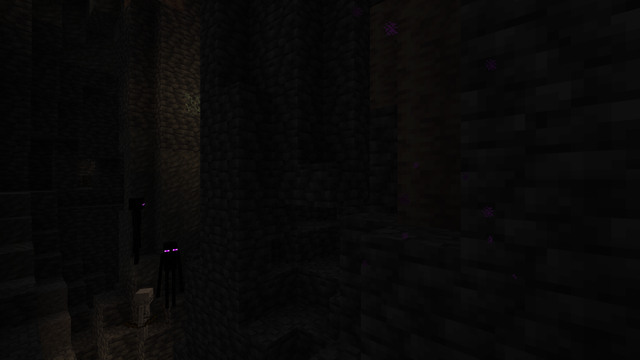endermens: (126, 195, 146, 264), (160, 238, 179, 309)
squelettes: (133, 286, 154, 344)
